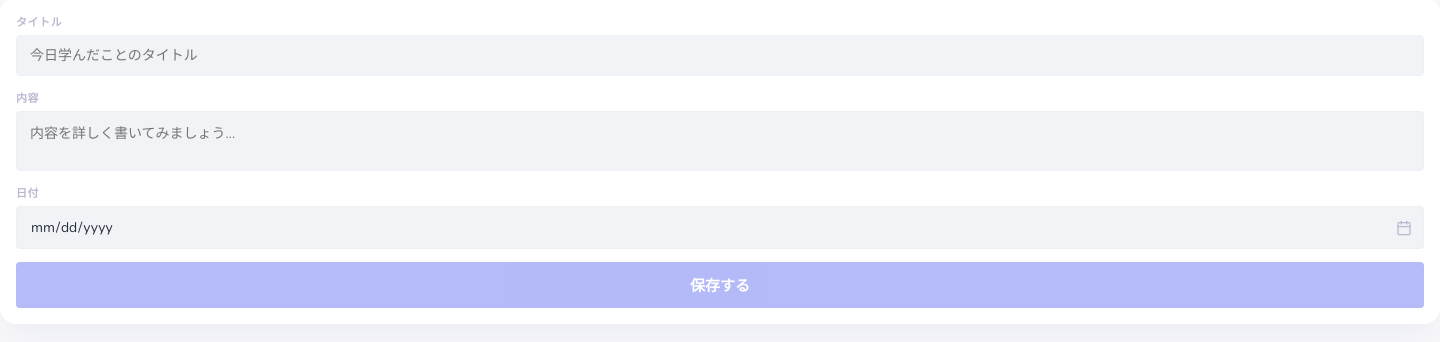
Scenario: DailyNewForm › has submit button disabled when title and content are filled but date is explicitly cleared
Type "タイトル" into the field labelled "タイトル" at (720, 56), box [16,35,1424,76]
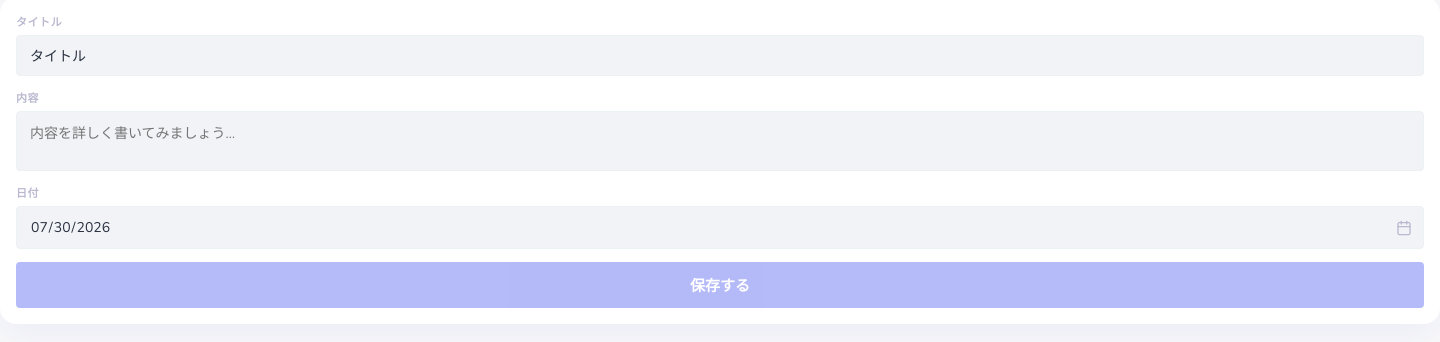
Type "内容です" into the text box labelled "内容" at (720, 141), box [16,111,1424,171]
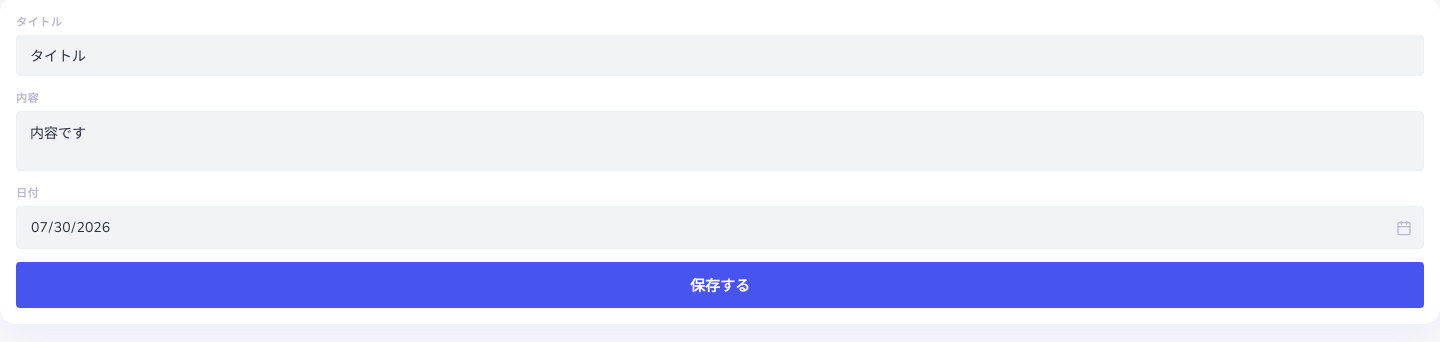
Clear the date field labelled "日付" at (720, 228), box [16,206,1424,249]
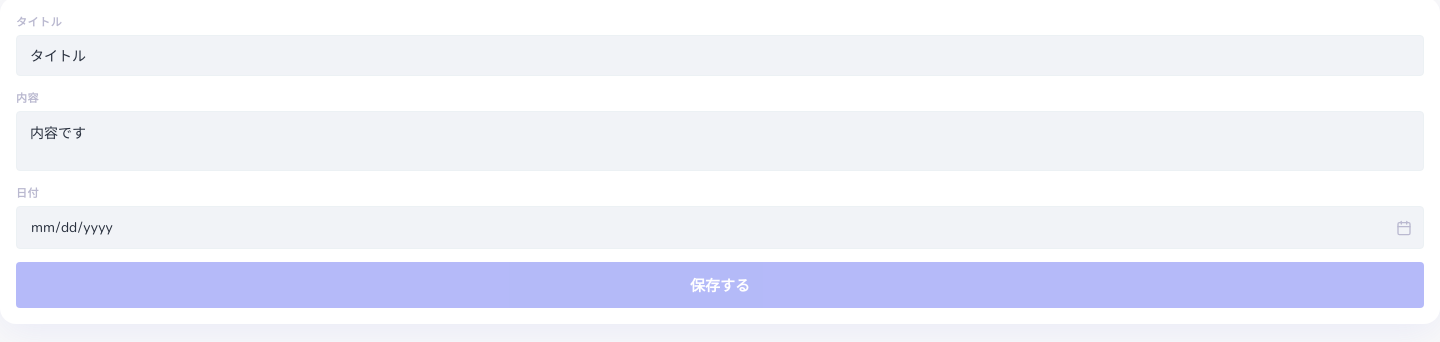
Check: the submit button is disabled, box [16,262,1424,308]
